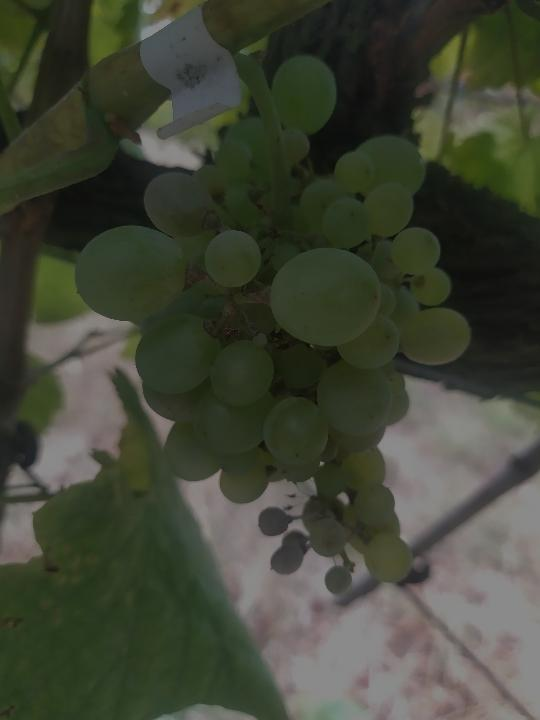grape: (72, 51, 475, 597)
